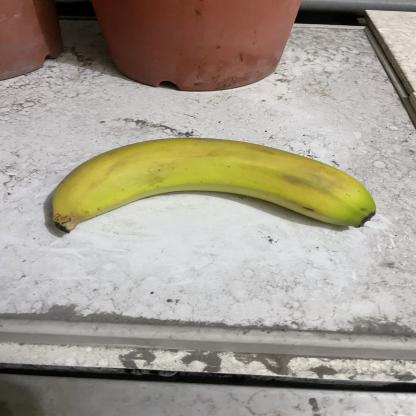banana: (41, 135, 378, 238)
